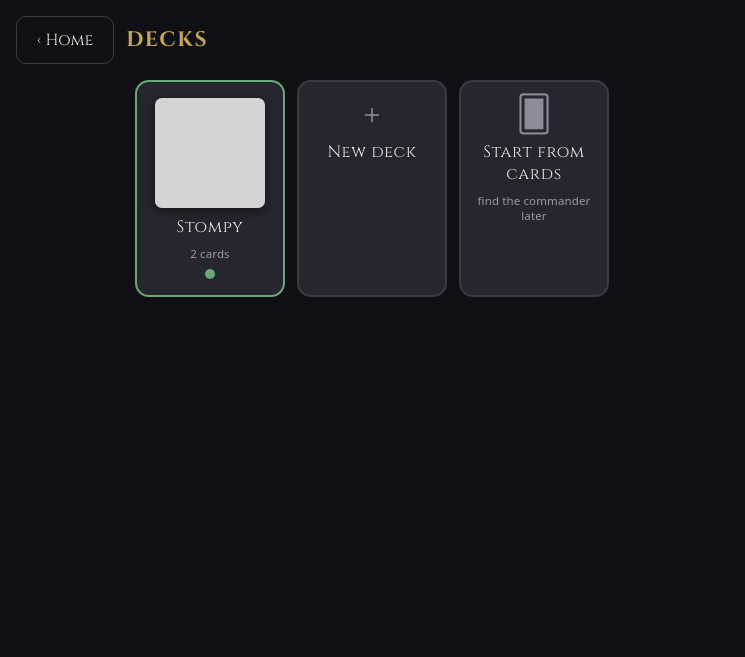
Test: tapping a deck tile opens its editor
Click the button with aria-label "open deck Stompy".
click(210, 188)  # box [135, 80, 285, 297]
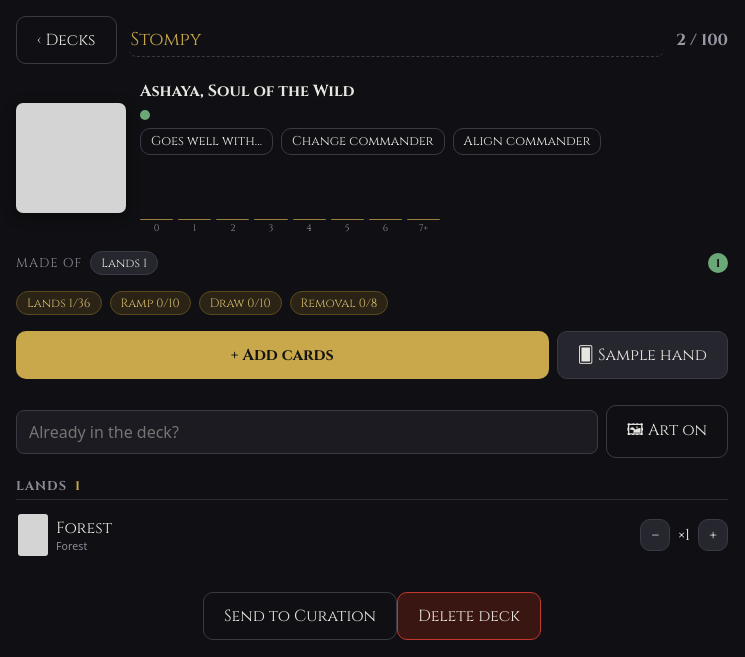
Expected: the field showing "Stompy" is shown, [128, 23, 664, 57]
